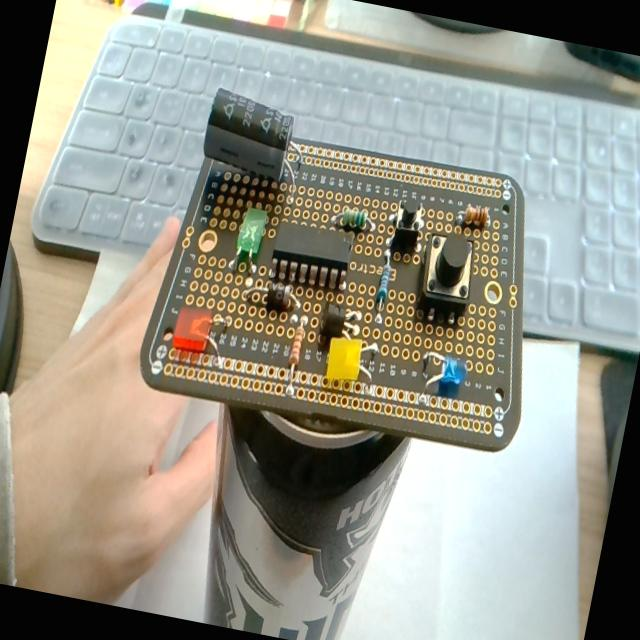Electrolytic capacitor: (193, 76, 320, 208)
IC: (268, 216, 359, 288)
diode: (233, 280, 305, 318)
led: (167, 300, 240, 376), (320, 337, 386, 402), (416, 347, 470, 406), (227, 210, 270, 276)
resistor: (278, 322, 314, 406), (448, 200, 506, 242), (369, 248, 401, 324), (326, 202, 382, 241)
switch: (414, 222, 488, 314), (388, 188, 432, 245)
transistor: (316, 296, 370, 344)
